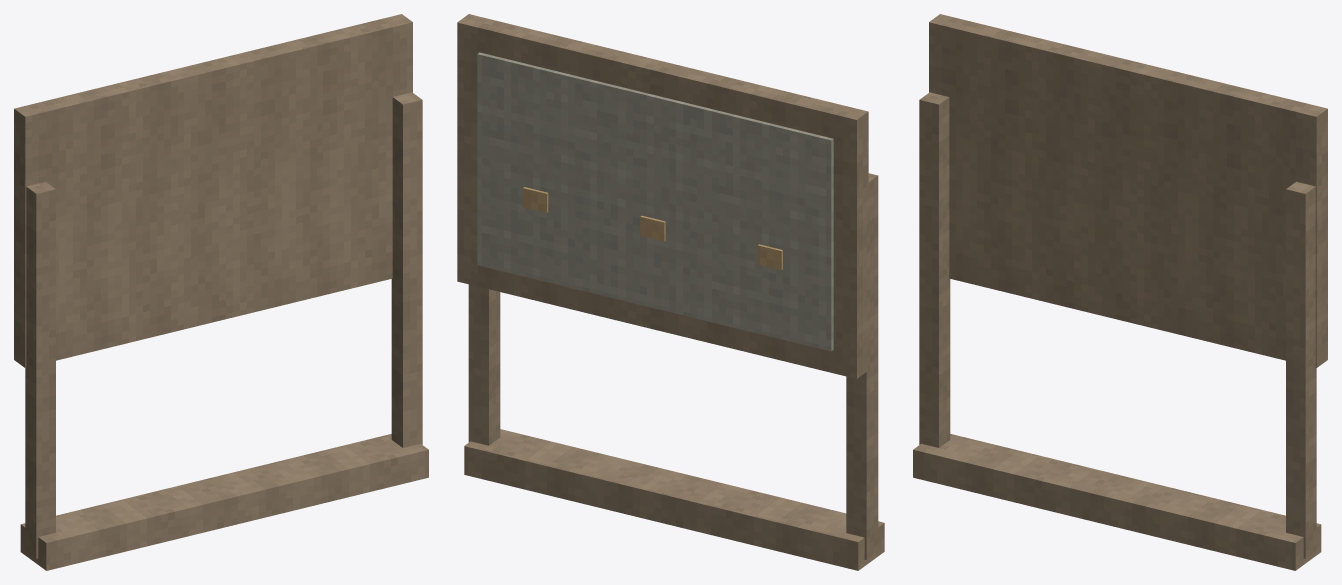
Rendered from level_blockout_map_pinboard.glb.
3 renders of one model, left to right at view 1: azimuth 30°, elevation 25°; view 2: azimuth 150°, elevation 25°; view 3: azimuth 330°, elevation 25°, orthographic. The views are drawn at different scales.
Parts seen in each view (by area): view 1: level_blockout_map_pinboard; view 2: level_blockout_map_pinboard; view 3: level_blockout_map_pinboard.
Part boxes in pixels (<box>): level_blockout_map_pinboard: <box>14,14,428,570</box>; level_blockout_map_pinboard: <box>457,14,884,570</box>; level_blockout_map_pinboard: <box>913,14,1327,570</box>.
Size of the model in its own units: 2.18 by 2.37 by 0.335.
Materials: 3 (3 with a texture image).
